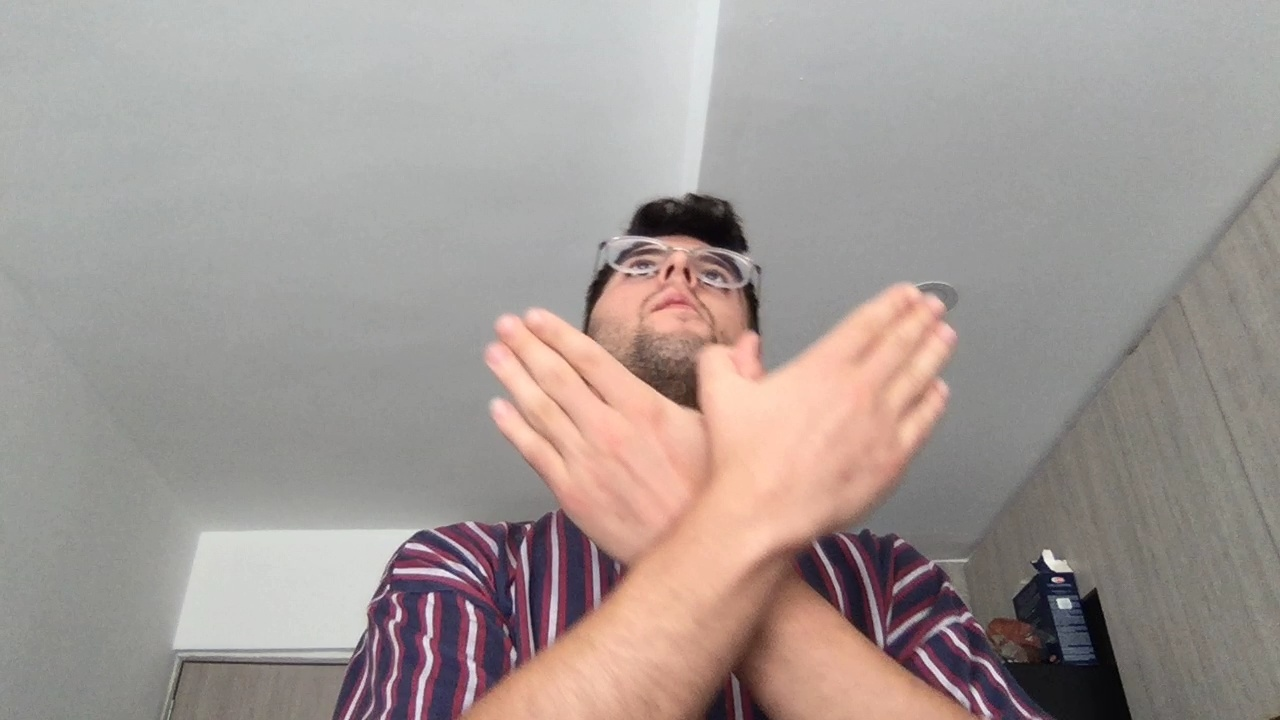ThankYou: (479, 280, 976, 555)
